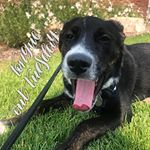puppy: (45, 12, 138, 150)
